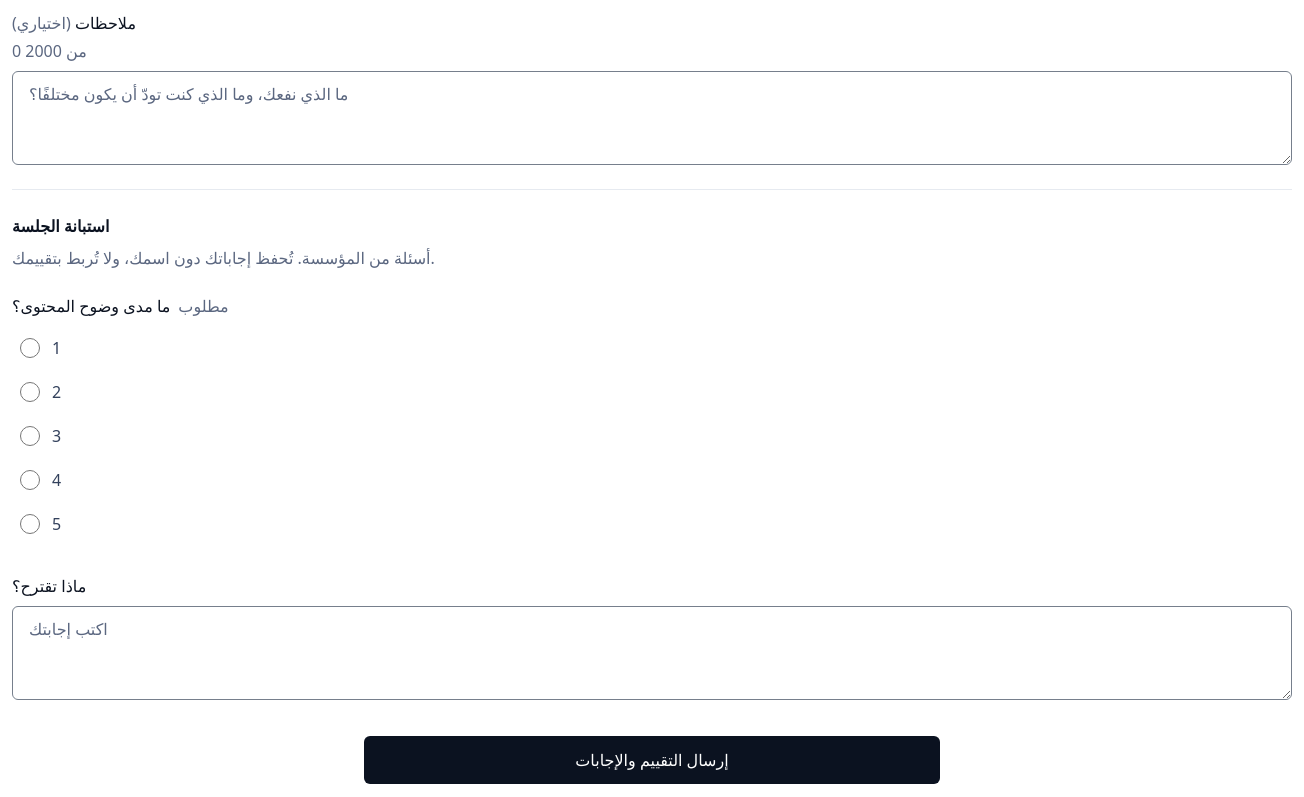
it: RateForm when the survey is refused and the rating is not › ★ says the rating was SAVED and the answers were not — the title never claims the rating failed
(page scrolled)
Click the button "إرسال التقييم والإجابات": click(652, 760) [364,736,940,784]
(page scrolled)
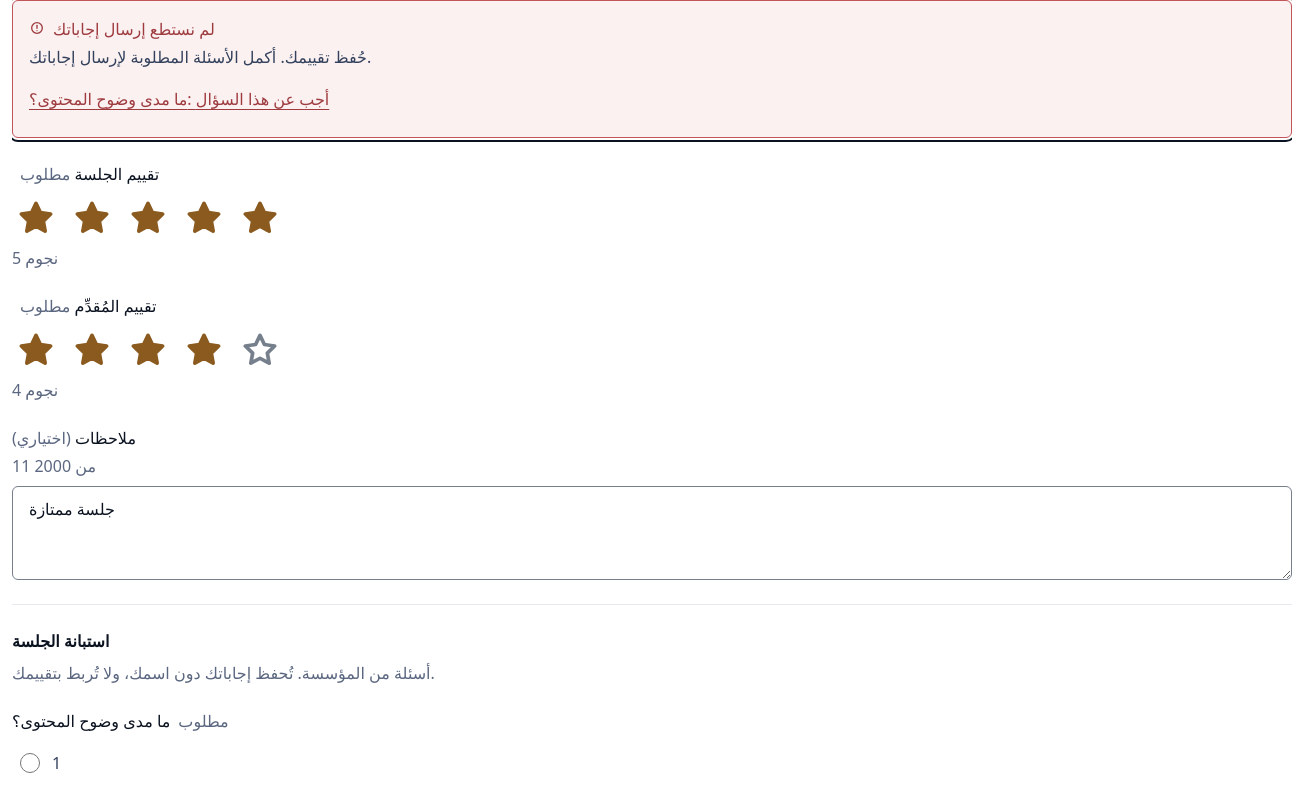
Check: the message does not show "لم نستطع إرسال تقييمك", box [12,0,1292,138]
Check: the message shows "لم نستطع إرسال إجاباتك", box [53,18,215,40]
Check: the message shows "حُفظ تقييمك. أكمل الأسئلة المطلوبة لإرسال إجاباتك.", box [29,46,371,68]
